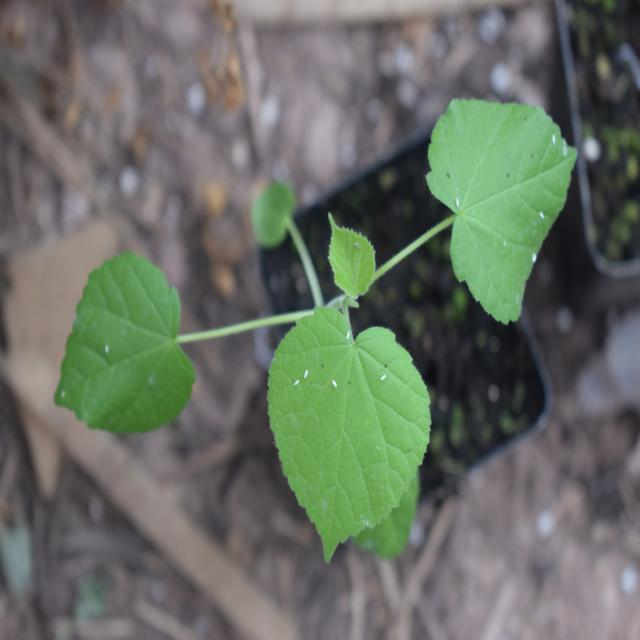abutilon theophrasti: (53, 81, 586, 542)
